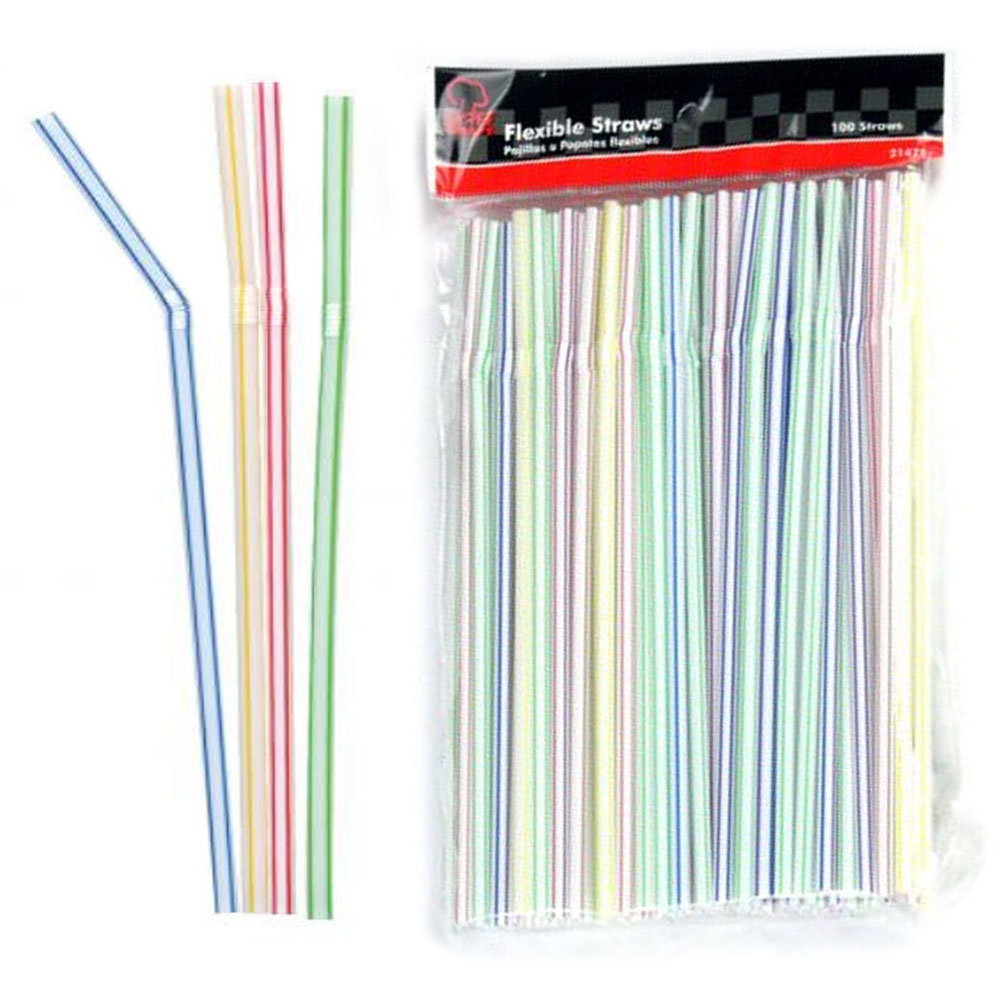Drinking Straw: (23, 107, 238, 919), (301, 92, 353, 924)
